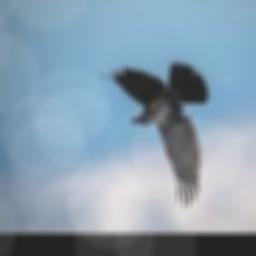Crow: (99, 63, 207, 208)
